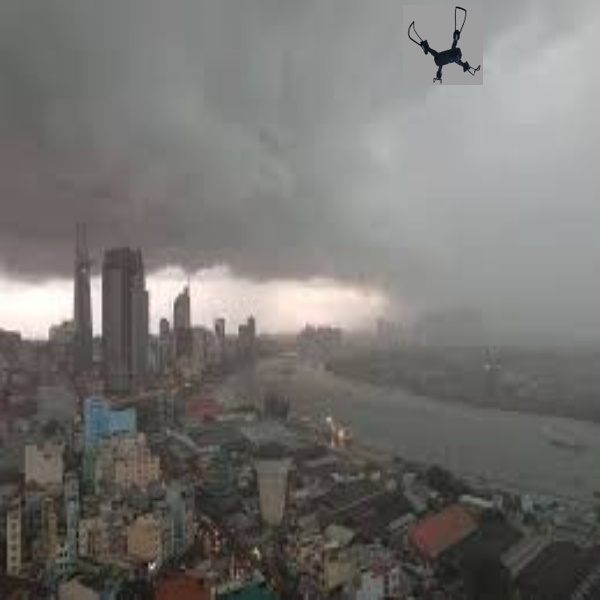drone: (407, 2, 484, 87)
